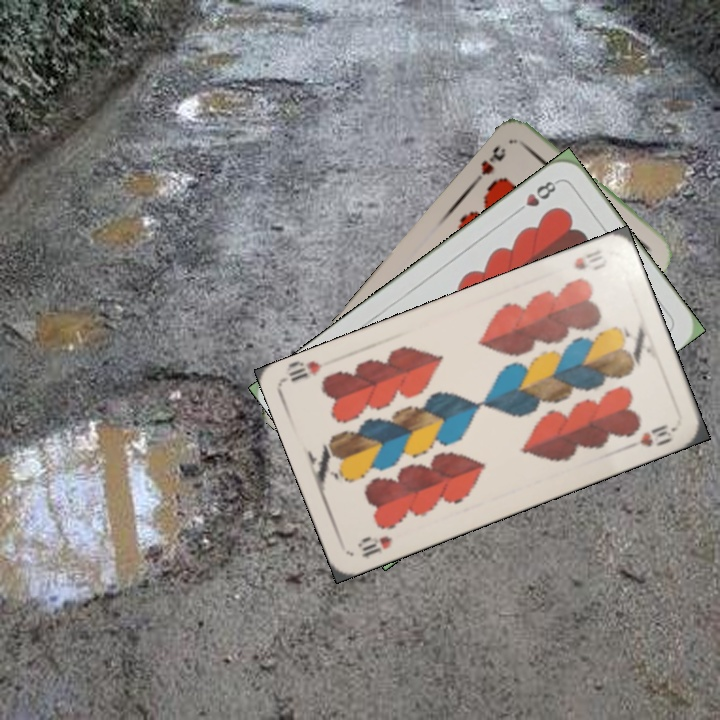H10: (353, 531, 395, 560), (570, 253, 610, 273)
H8: (511, 176, 562, 217)
H9: (470, 141, 509, 186)
